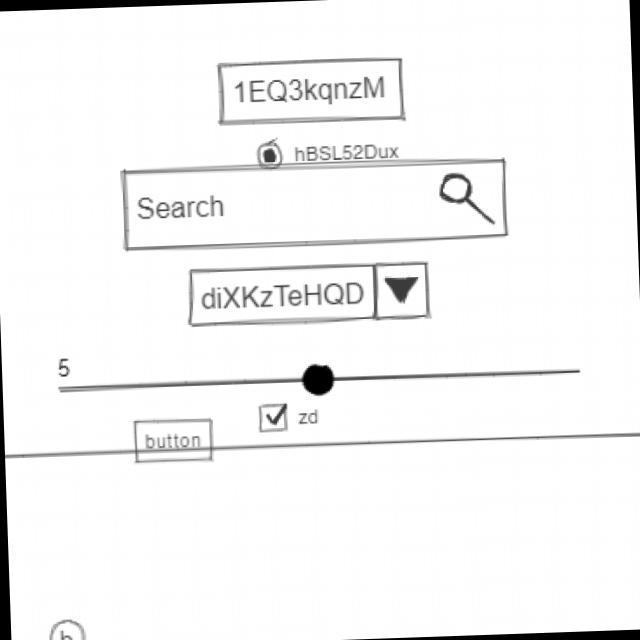button: (216, 51, 410, 129), (132, 412, 218, 466)
checkbox: (253, 398, 326, 432)
container: (4, 427, 640, 640)
icon-button: (45, 615, 86, 640)
radio: (255, 133, 400, 170)
search: (119, 152, 512, 256)
select: (184, 254, 434, 333)
slider: (78, 352, 584, 406)
